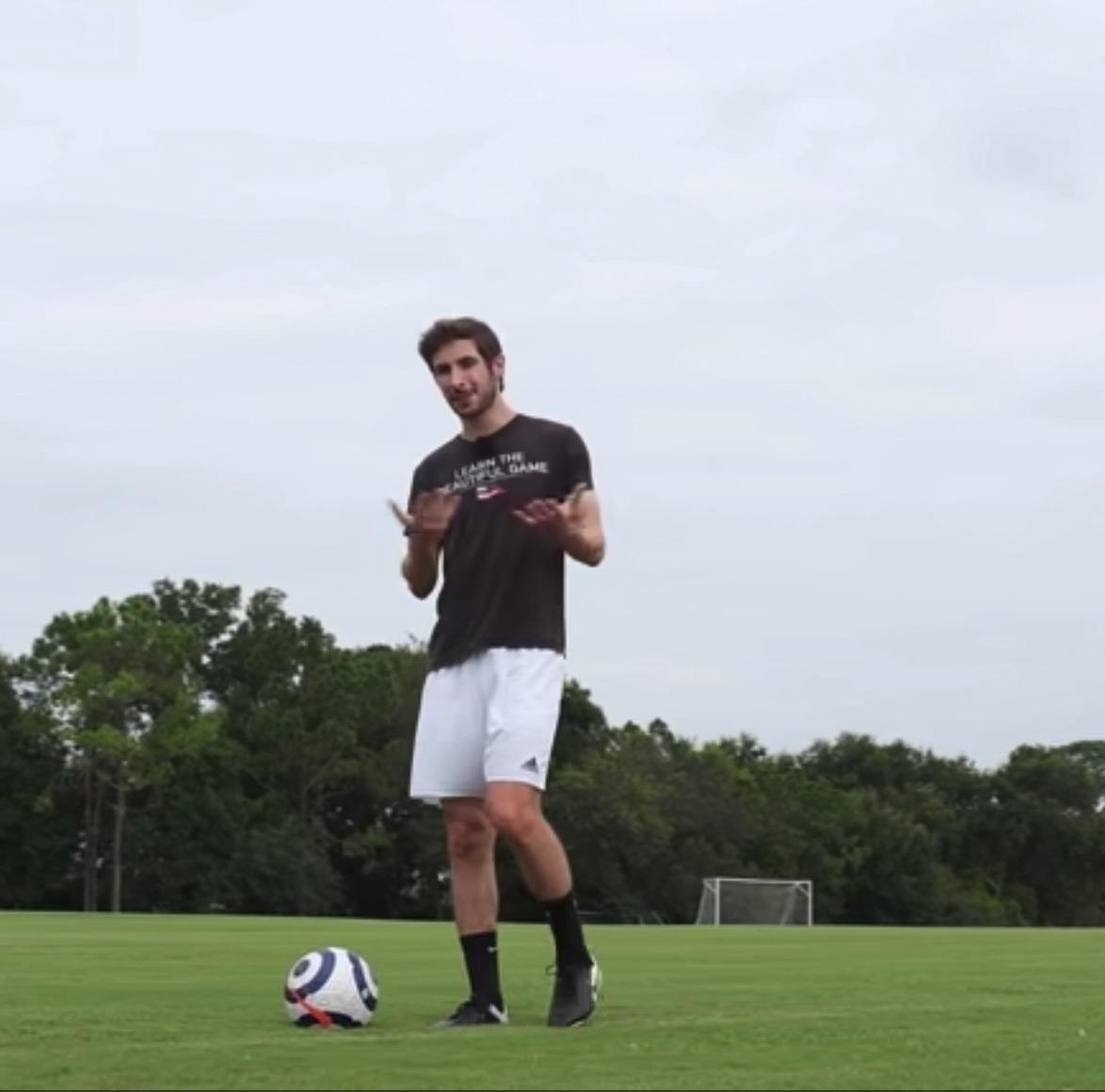ball: (285, 948, 376, 1030)
foot: (546, 950, 604, 1033), (433, 992, 514, 1033)
person: (398, 316, 606, 1027)
